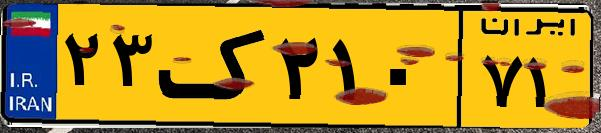0: (385, 28, 445, 110)
1: (330, 28, 385, 110), (525, 38, 570, 115)
2: (270, 28, 330, 110), (57, 26, 110, 100)
3: (110, 28, 158, 98)
7: (475, 38, 525, 113)
ک: (158, 12, 270, 120)
